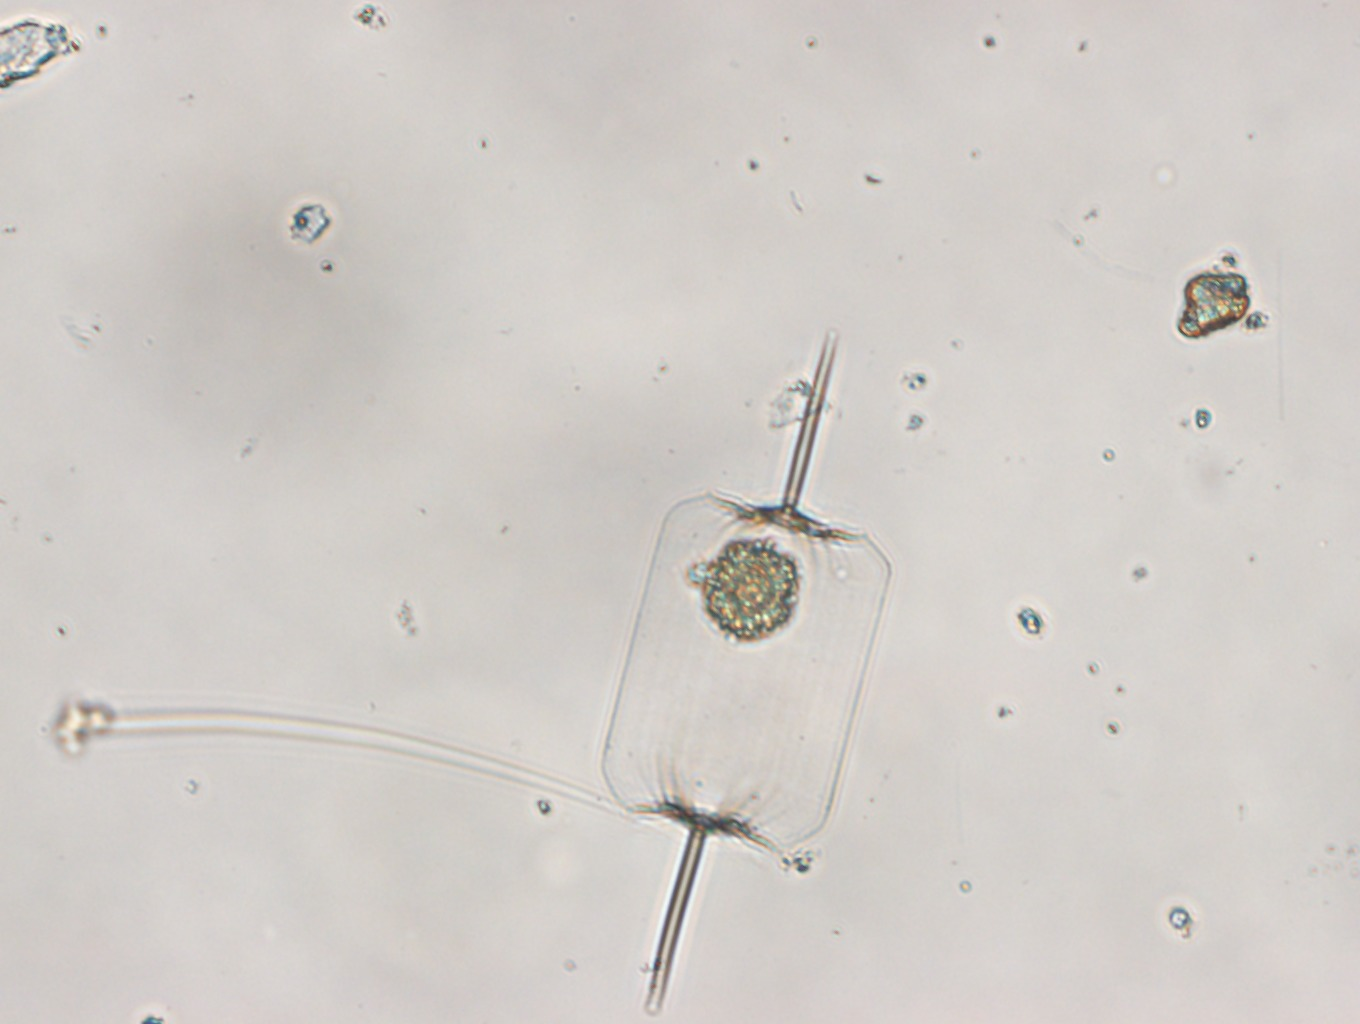ditylum: (601, 330, 891, 1016)
